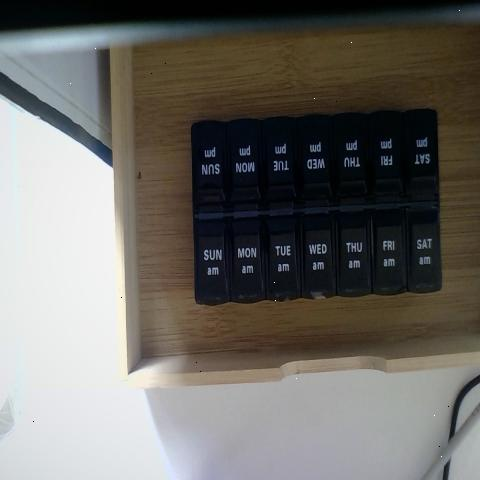FRI-am: (370, 209, 404, 296)
FRI-pm: (369, 115, 403, 199)
MON-am: (226, 219, 263, 301)
MON-pm: (224, 121, 263, 207)
SAT-am: (405, 206, 440, 294)
SAT-pm: (404, 114, 438, 197)
SUN-am: (195, 218, 228, 304)
SUN-pm: (192, 123, 226, 210)
THU-am: (334, 208, 369, 297)
THU-pm: (333, 118, 366, 201)
TUE-am: (265, 221, 298, 300)
TUE-pm: (261, 119, 299, 203)
WED-am: (299, 211, 334, 297)
WED-pm: (298, 119, 332, 203)
